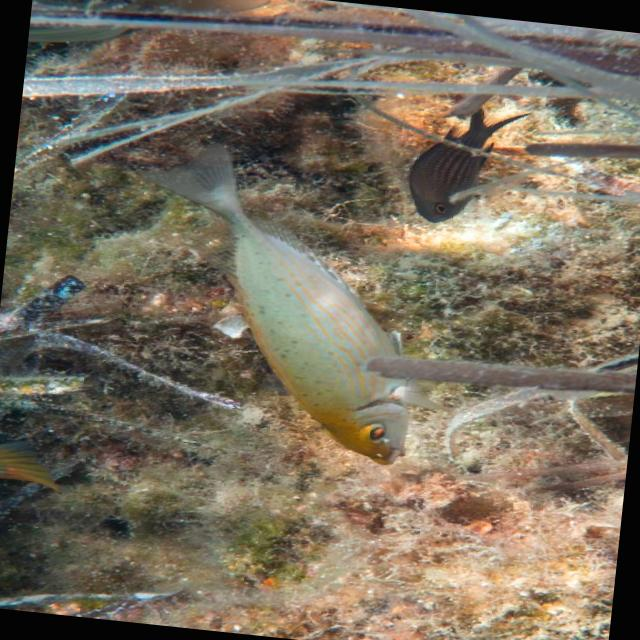Sokar Baligi: (104, 130, 476, 480)
